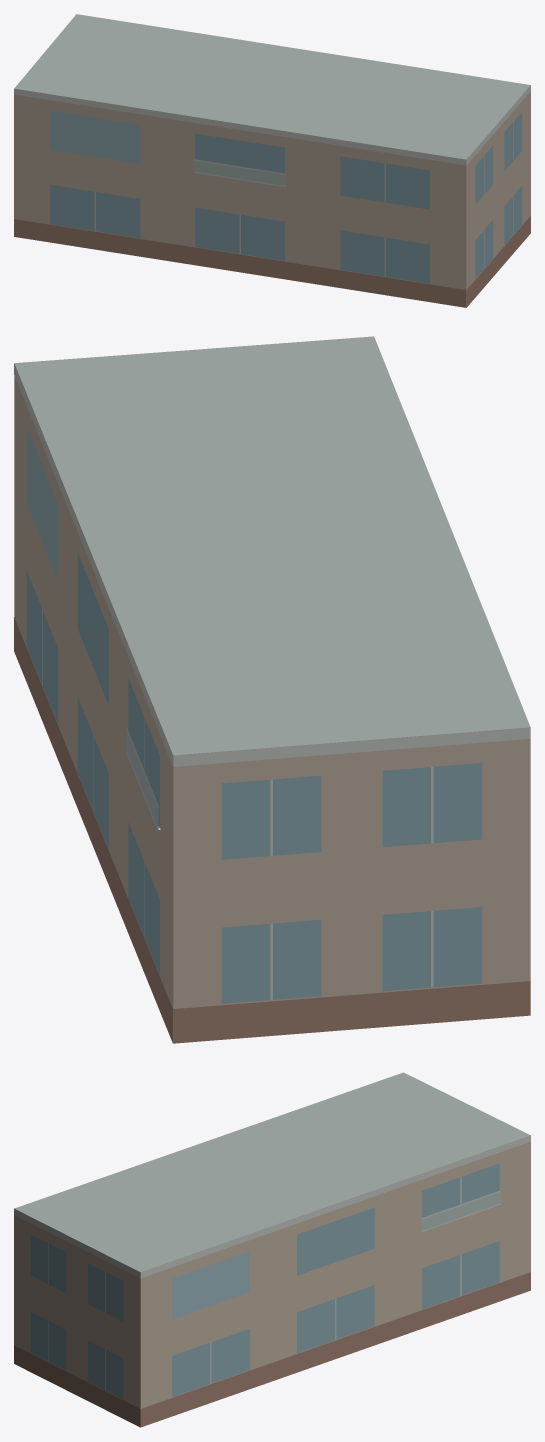
Rendered from survey-upis-32490272.glb.
3 views of the same model, one above another, from view 1: azimuth 30°, elevation 25°; view 2: azimuth 150°, elevation 25°; view 3: azimuth 270°, elevation 25° (orthographic). The views are drawn at different scales.
Visible parts, largest first — view 1: survey-upis-32490272.tmp; view 2: survey-upis-32490272.tmp; view 3: survey-upis-32490272.tmp.
Boxes of the visible parts, x1,y1,x2,y2 form: survey-upis-32490272.tmp: (14,14,530,307); survey-upis-32490272.tmp: (14,336,530,1043); survey-upis-32490272.tmp: (14,1072,530,1427).
Bounding box in the file's own units: 16.86 × 6.1 × 18.41.
